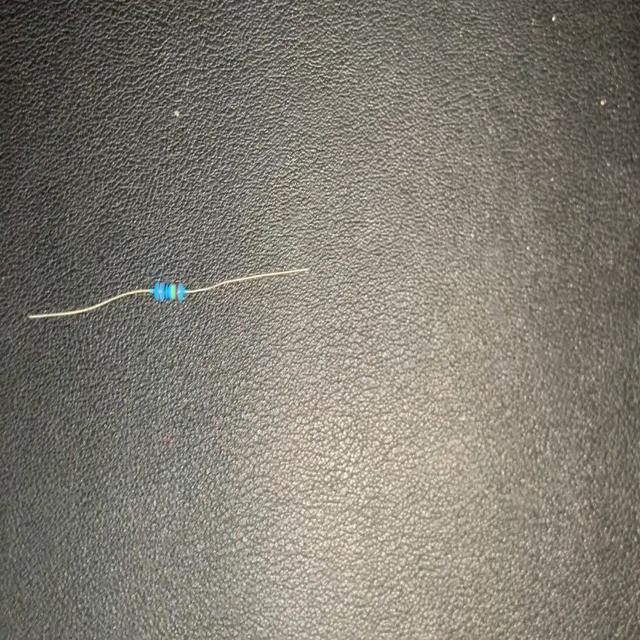resistor: (22, 254, 316, 338)
